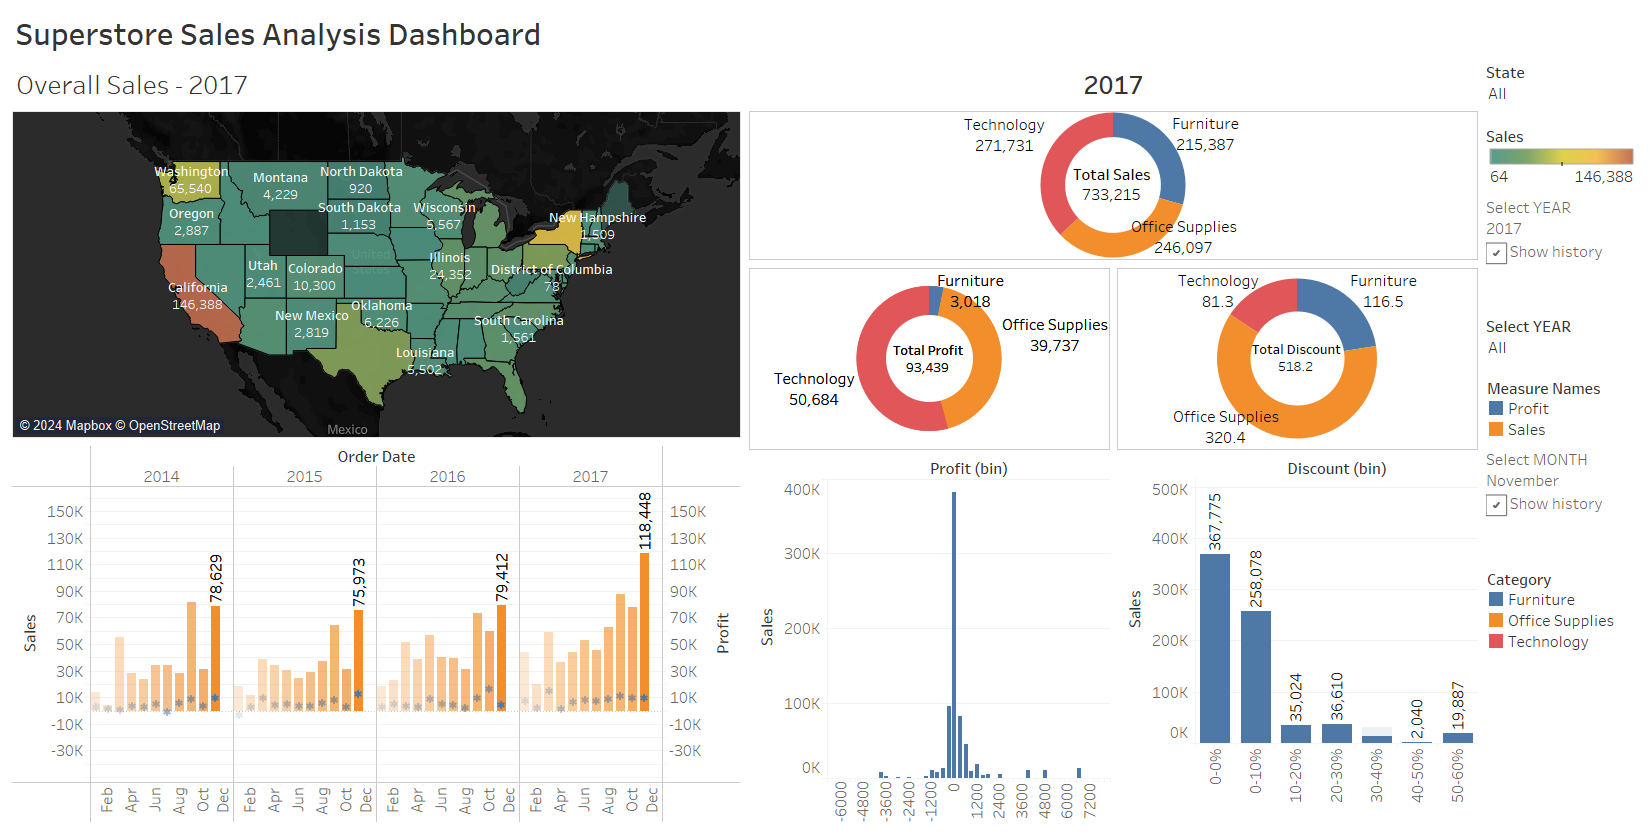

The dashboard page shown, as its layout file describes it:
{"tool":"tableau","page":{"name":"Dashboard 1","canvas":[1650,835],"ordinal":0},"visuals":[{"type":"title","box":[8,8,1634,49]},{"type":"worksheet","title":"Overall Sales","mark":"Automatic","box":[8,57,737,385]},{"type":"worksheet","title":"Sale Info","mark":"Automatic","rows":["Calculation_503840211940593664","Calculation_503840211940593664"],"box":[745,57,737,207.1]},{"type":"filter","title":"Overall Sales","param":"[federated.1i96hi61w69r6w1ggneq31pv761z].[none:State:nk]","box":[1482,57,160,61]},{"type":"legend","title":"Overall Sales","param":"[federated.1i96hi61w69r6w1ggneq31pv761z].[sum:Sales:qk]","box":[1482,118,160,73]},{"type":"currpage","title":"Overall Sales","box":[1482,191,160,119]},{"type":"worksheet","title":"Profit Info","mark":"Circle","rows":["Calculation_503840211940593664","Calculation_503840211940593664"],"box":[745,264.1,368.5,190.1]},{"type":"worksheet","title":"Discount Info","mark":"Automatic","rows":["Calculation_503840211940593664","Calculation_503840211940593664"],"box":[1113.5,264.1,368.5,190.1]},{"type":"filter","title":"Sales Vs Profit","param":"[federated.1i96hi61w69r6w1ggneq31pv761z].[yr:Order Date:ok]","box":[1482,310,160,61]},{"type":"legend","title":"Sales Vs Profit","param":"[federated.1i96hi61w69r6w1ggneq31pv761z].[:Measure Names]","box":[1482,371,160,72]},{"type":"worksheet","title":"Sales Vs Profit","mark":"Automatic","rows":["Sales","Profit"],"cols":["Order Date","Order Date"],"box":[8,442,737,385]},{"type":"currpage","title":"Sales Vs Profit","box":[1482,443,160,119]},{"type":"worksheet","title":"Profit Distribution","mark":"Automatic","rows":["Sales"],"cols":["Profit (bin)"],"box":[745,454.3,368.5,372.7]},{"type":"worksheet","title":"Discount Distribution","mark":"Automatic","rows":["Sales"],"cols":["Discount (bin)"],"box":[1113.5,454.3,368.5,372.7]},{"type":"legend","title":"Sale Info","param":"[federated.1i96hi61w69r6w1ggneq31pv761z].[none:Category:nk]","box":[1482,562,160,93]}]}

Visuals, with their boxes in screenshot pixels (x1, y1, x2, y2), scaled from the page's 1650x835 canvas onto the 1650x835 screenshot:
title: 8, 8, 1642, 57
"Overall Sales" worksheet: 8, 57, 745, 442
"Sale Info" worksheet: 745, 57, 1482, 264
"Overall Sales" filter: 1482, 57, 1642, 118
"Overall Sales" legend: 1482, 118, 1642, 191
"Overall Sales" currpage: 1482, 191, 1642, 310
"Profit Info" worksheet (Circle marks): 745, 264, 1114, 454
"Discount Info" worksheet: 1114, 264, 1482, 454
"Sales Vs Profit" filter: 1482, 310, 1642, 371
"Sales Vs Profit" legend: 1482, 371, 1642, 443
"Sales Vs Profit" worksheet: 8, 442, 745, 827
"Sales Vs Profit" currpage: 1482, 443, 1642, 562
"Profit Distribution" worksheet: 745, 454, 1114, 827
"Discount Distribution" worksheet: 1114, 454, 1482, 827
"Sale Info" legend: 1482, 562, 1642, 655
